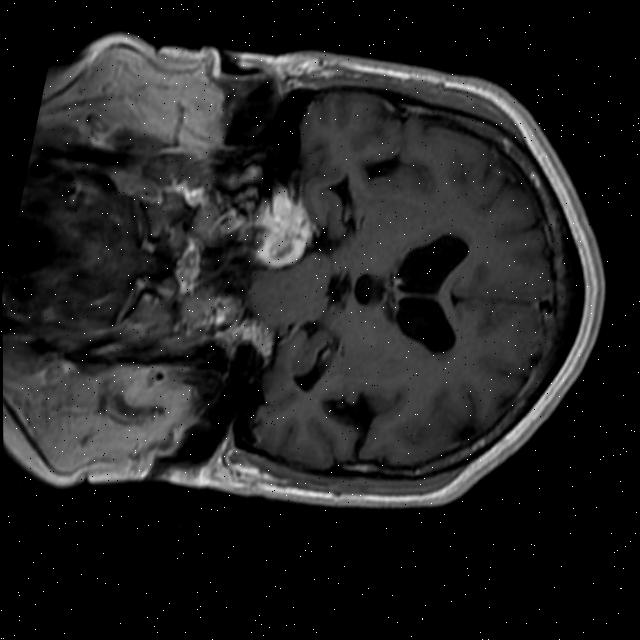Meningioma: (240, 176, 321, 279)
